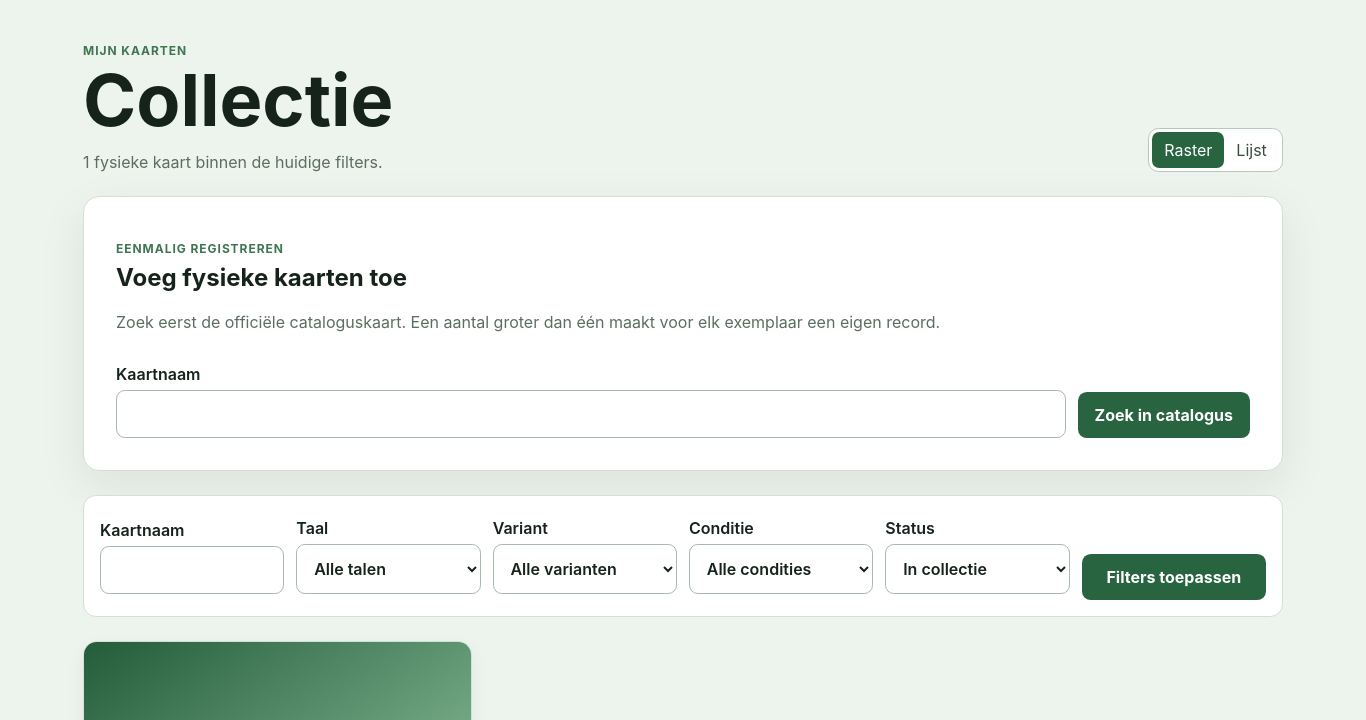
Test case: CollectionPage › renders API validation errors next to the add-card controls
Expected: the form with class "catalog-search" is shown, [116, 348, 1250, 438]
Type "Mudkip" into the search field with id "catalog-query".
click(591, 414); type("Mudkip")  # box [116, 390, 1066, 438]
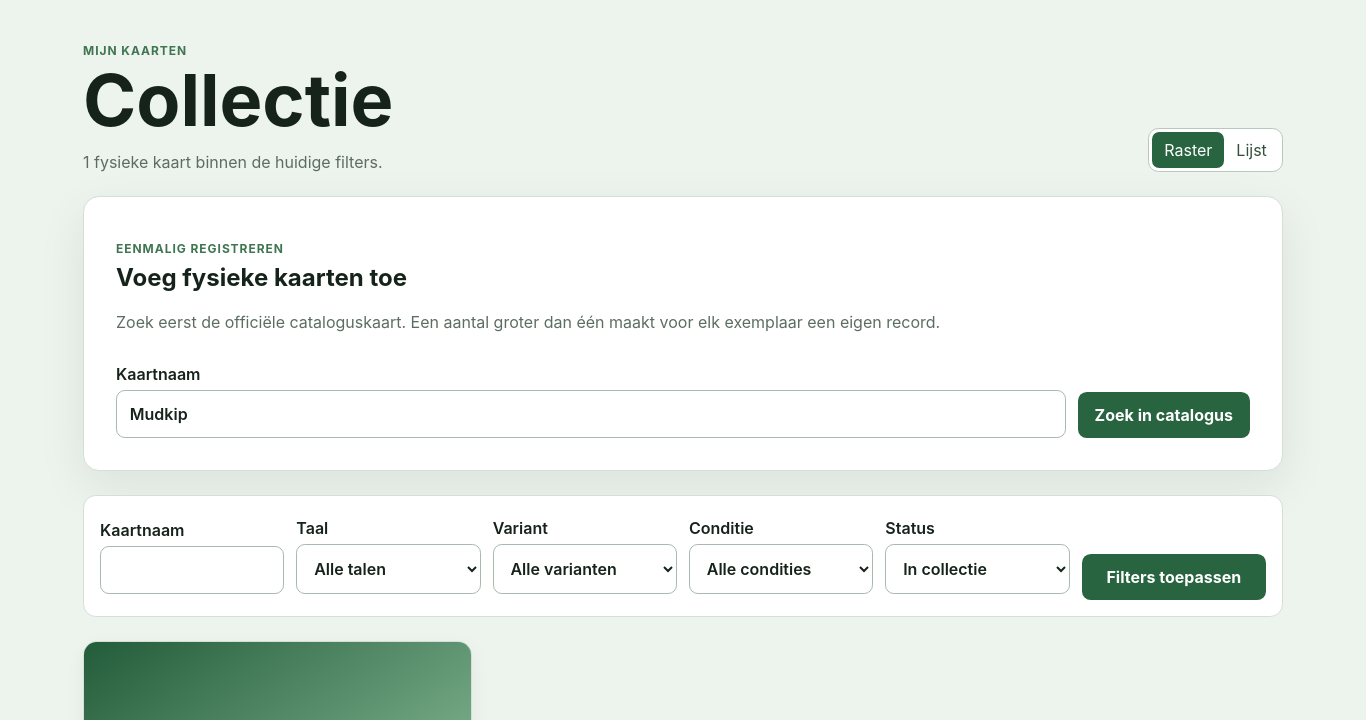
Submit the form with class "catalog-search", box [116, 348, 1250, 438]
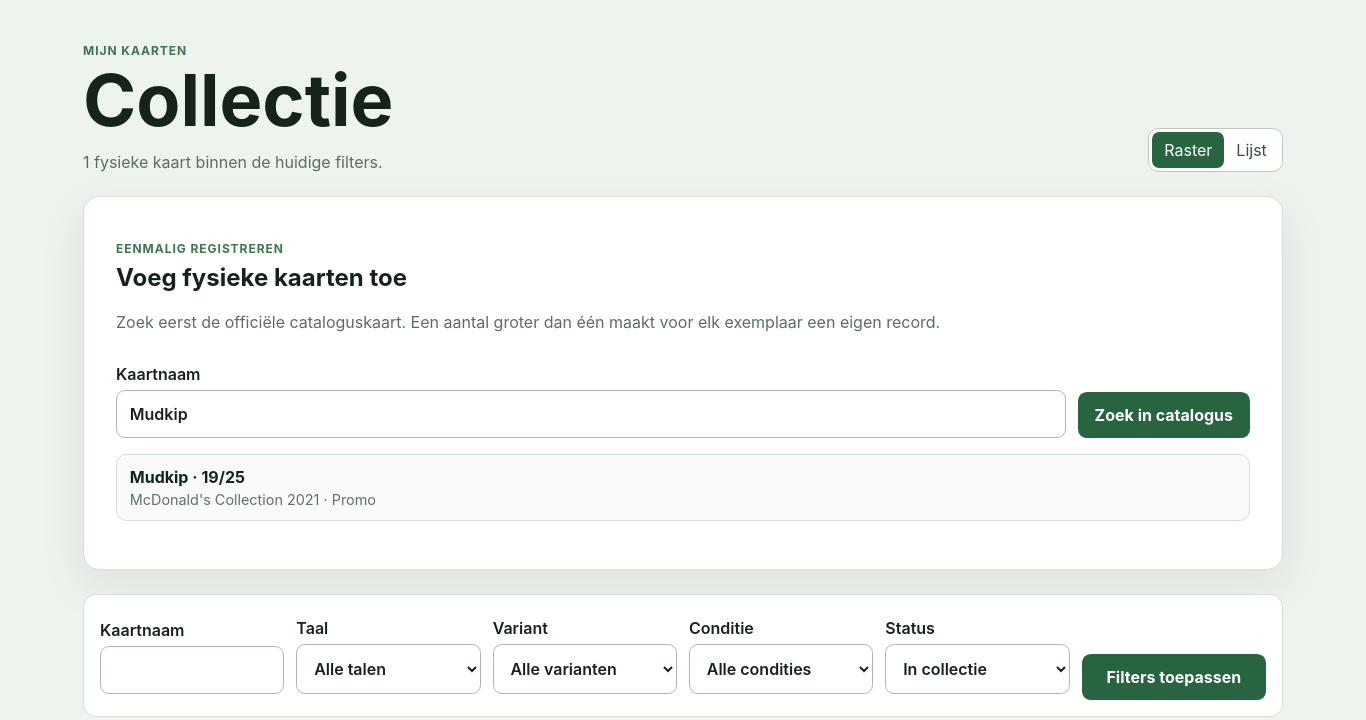
Click the button "Mudkip · 19/25 McDonald's Collection 2021 · Promo".
click(187, 477)  # box [116, 454, 1250, 522]
(page scrolled)
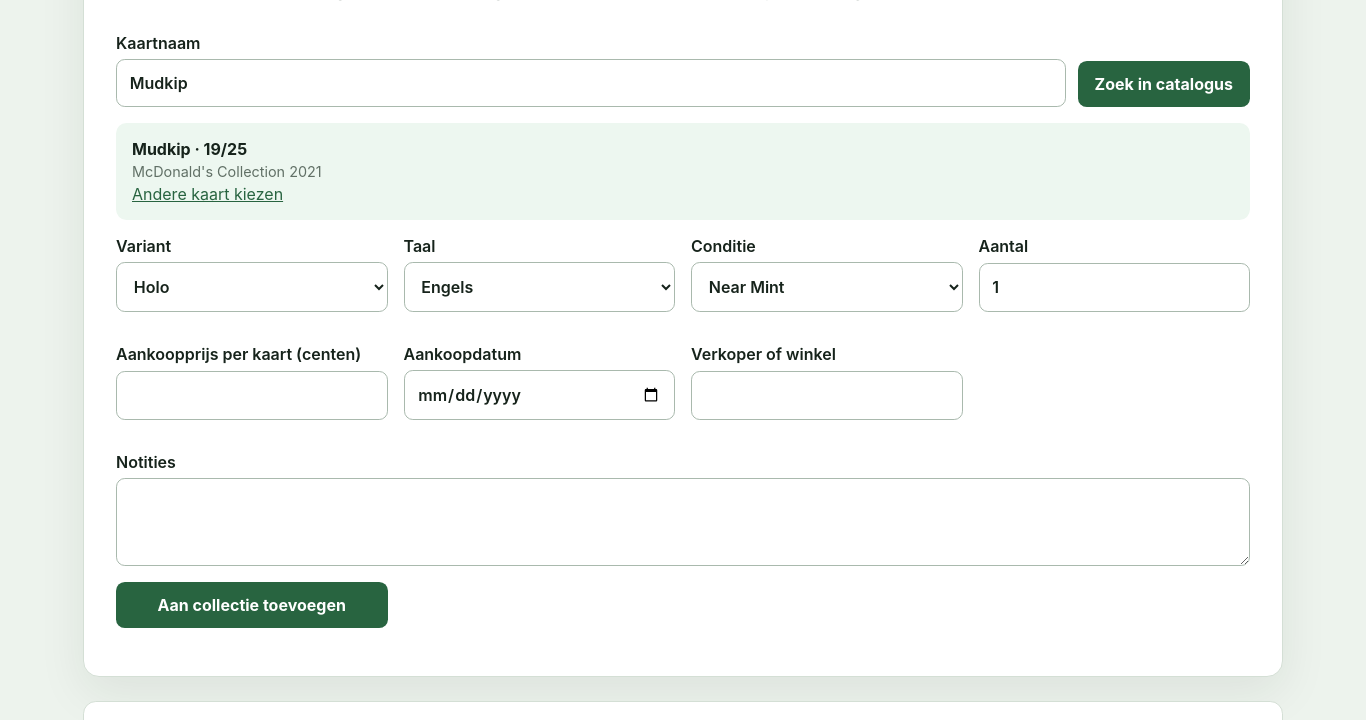
Submit the form with class "collection-form"
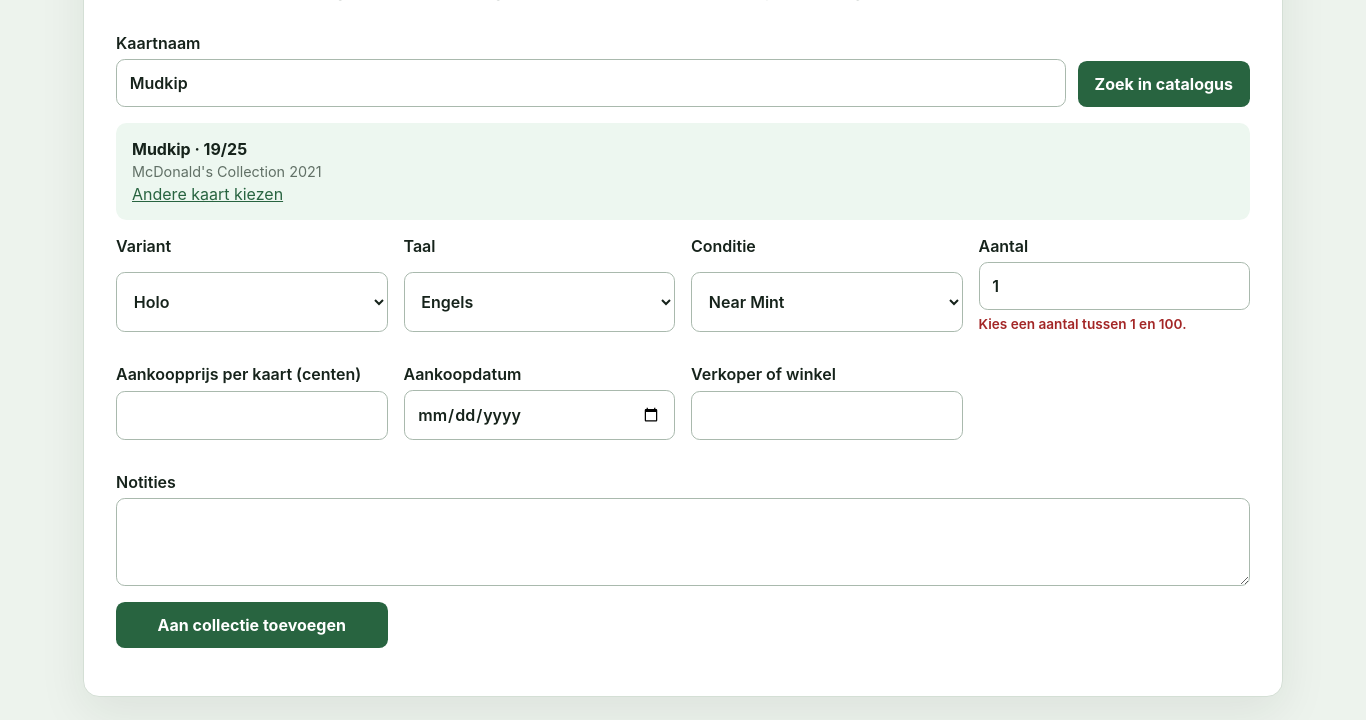
Expected: the text "Kies een aantal tussen 1 en 100." is shown, [978, 316, 1186, 332]
